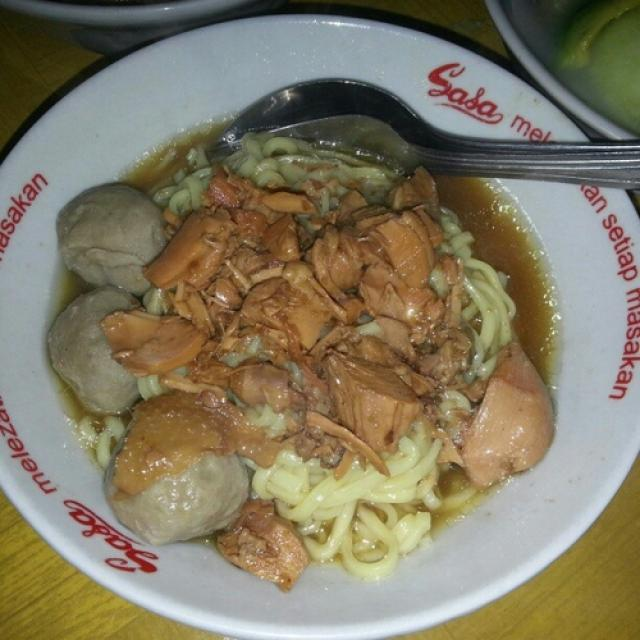面条主食: (19, 25, 624, 620)
